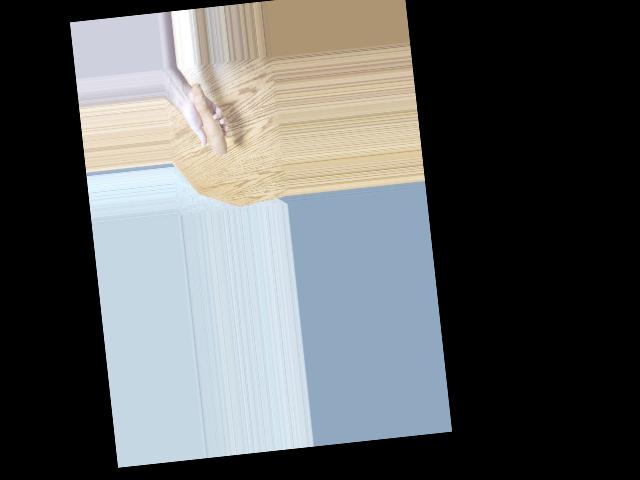sweet_potato: (190, 73, 230, 157)
